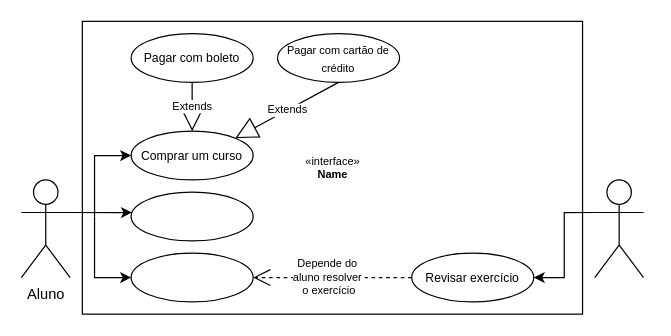
The diagram is 671 pixels wide and 336 high, and some of its shapes have lost their labels. Here are the shapes that lost their labels. From the top down, the centre of each, then its label:
[191,216]: Assistir um capítulo
[619,228]: Professor
[191,277]: Resolver um exercício
